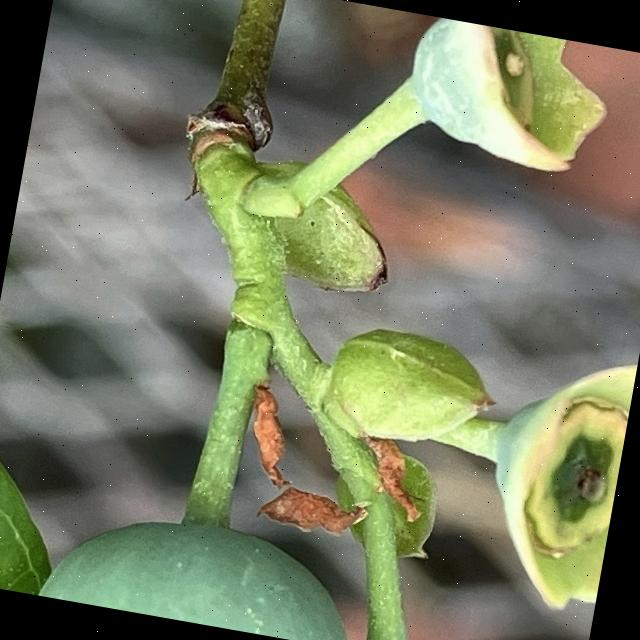Blueberries: (31, 491, 375, 640)
